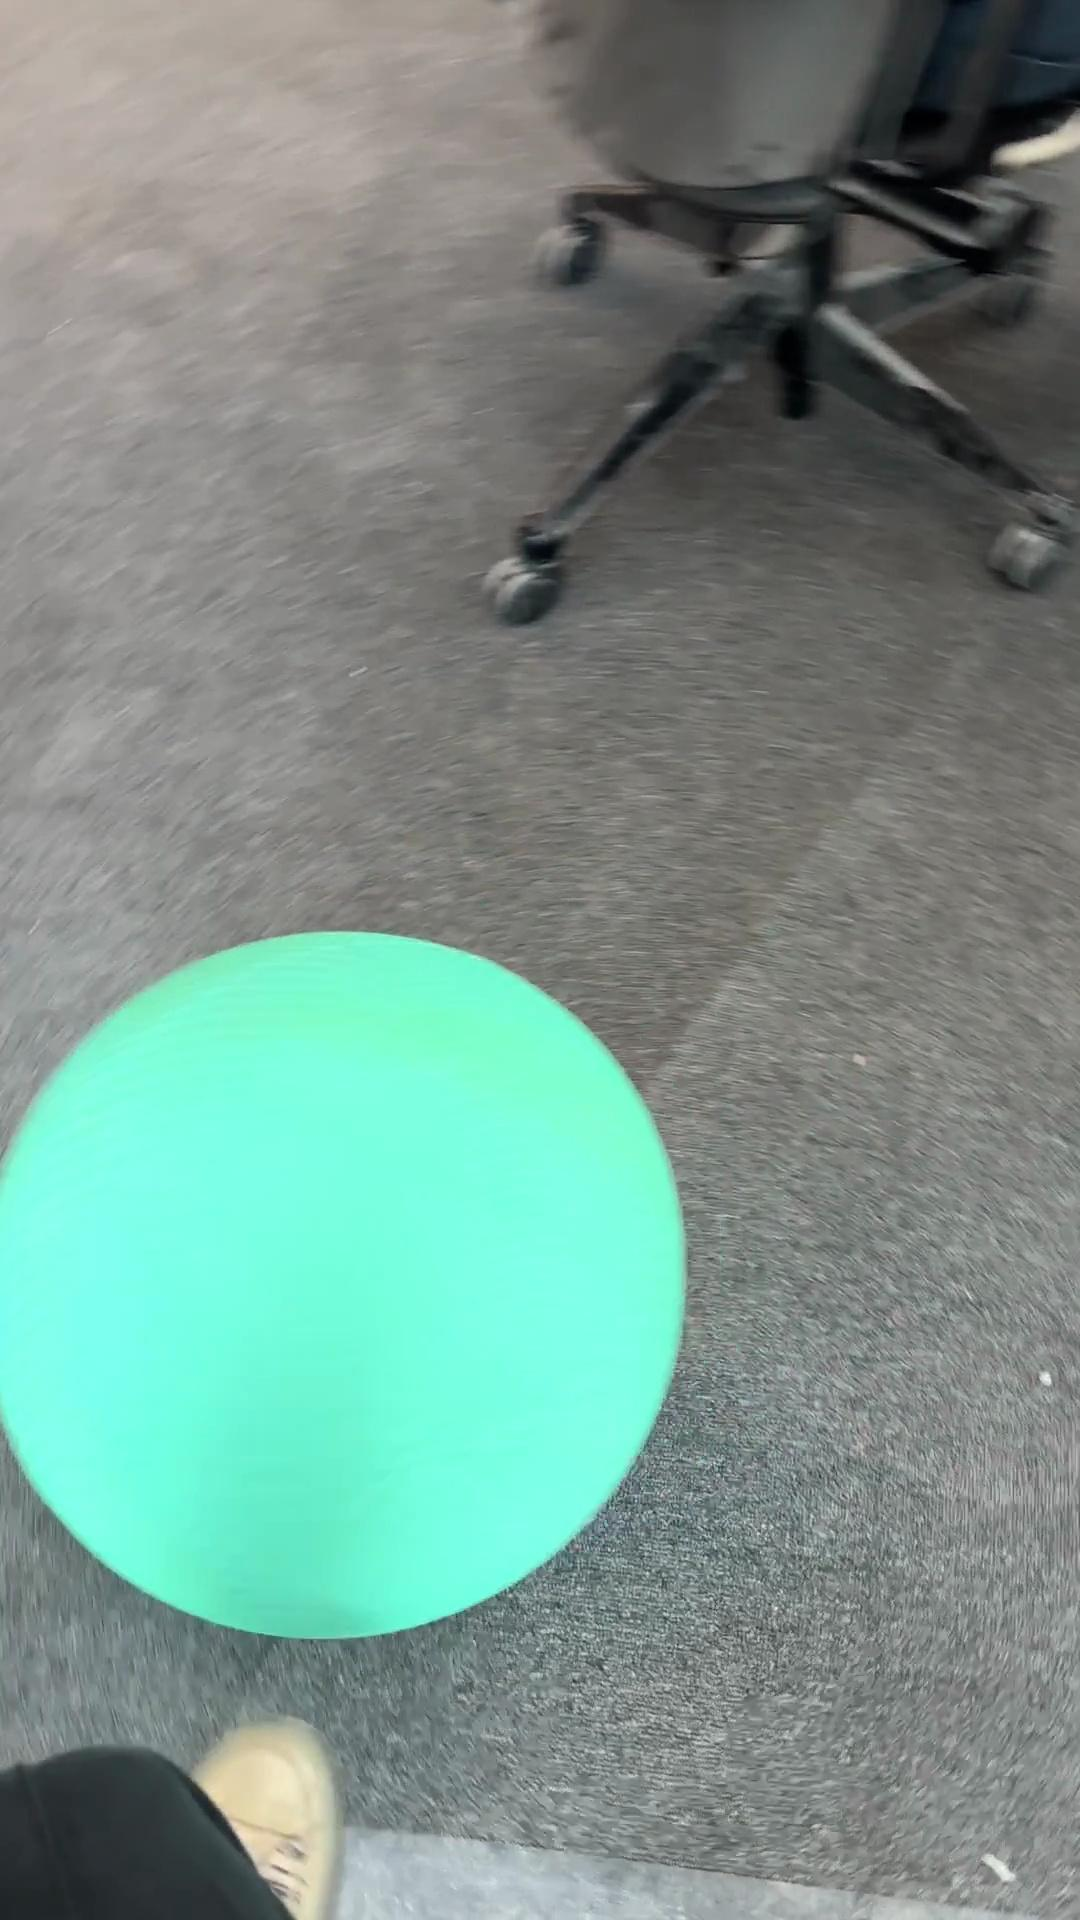ALGAE: (1, 926, 688, 1640)
